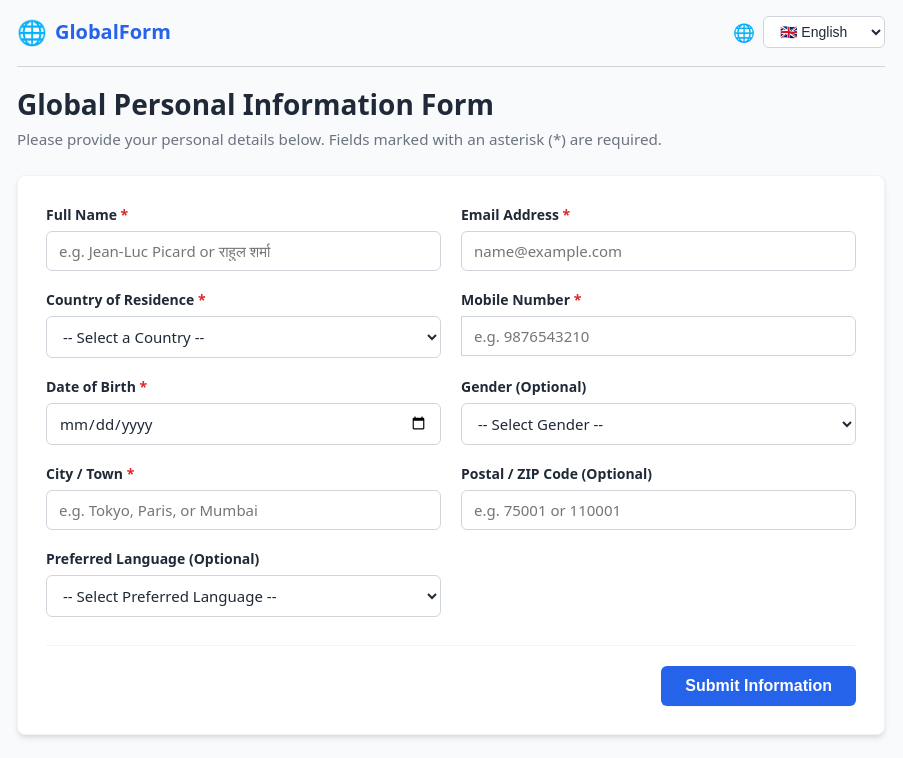
Global Personal Information Form - Frontend Integration Tests › shows required validation errors when submitting an empty form
Click the button "Submit Information". click: (759, 686)
box: [661,666,856,706]
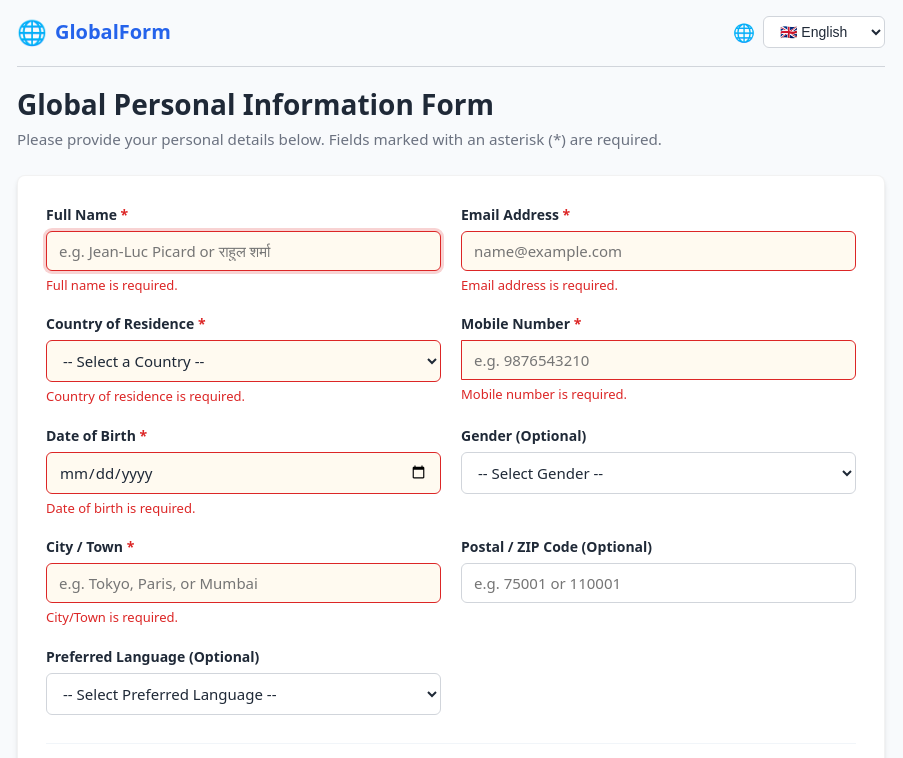
expect the text "Full name is required." is shown: met, box [46,276,178,294]
expect the text "Email address is required." is shown: met, box [461,276,618,294]
expect the text "Country of residence is required." is shown: met, box [46,387,245,405]
